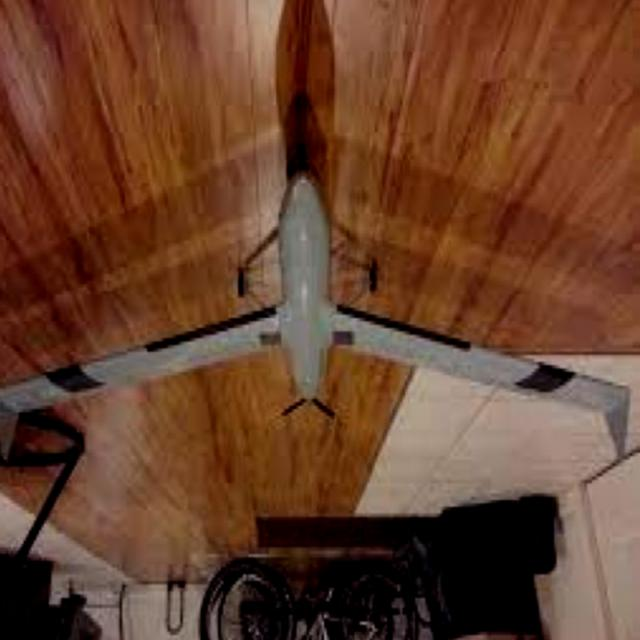plane: (0, 158, 633, 468)
